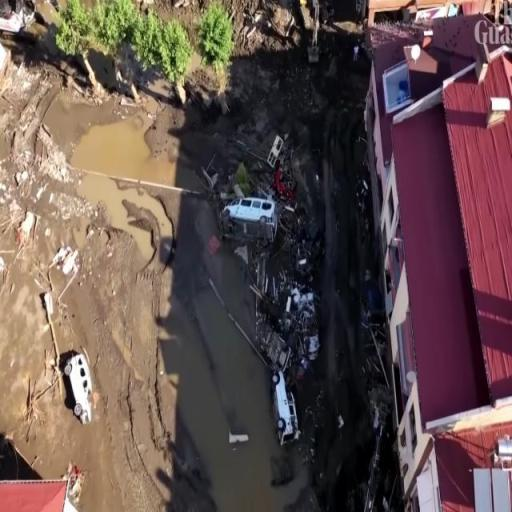flood: (70, 96, 320, 512)
house: (367, 67, 512, 511), (0, 474, 75, 510)
